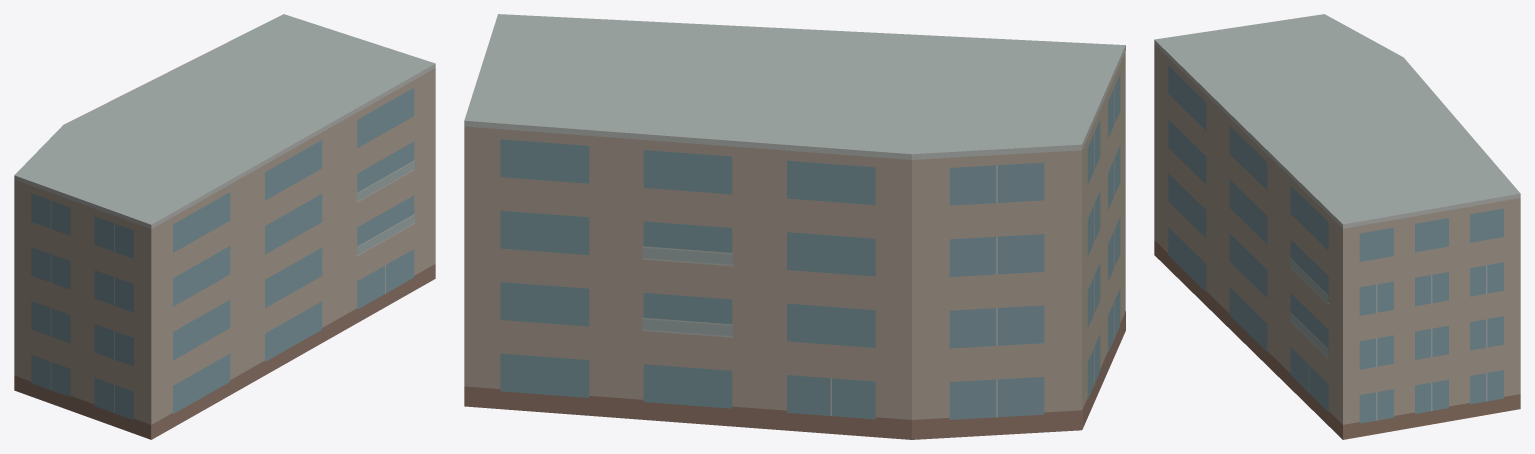
File: survey-upis-32590916.glb
The picture shows the model from 3 angles, left to right: view 1: azimuth 30°, elevation 25°; view 2: azimuth 150°, elevation 25°; view 3: azimuth 270°, elevation 25°; orthographic projection. The views are drawn at different scales.
Visible parts, largest first — view 1: survey-upis-32590916.tmp; view 2: survey-upis-32590916.tmp; view 3: survey-upis-32590916.tmp.
Boxes of the visible parts, x1=… form: survey-upis-32590916.tmp: x1=14, y1=14, x2=435, y2=439; survey-upis-32590916.tmp: x1=464, y1=14, x2=1125, y2=439; survey-upis-32590916.tmp: x1=1154, y1=14, x2=1520, y2=439.
Bounding box in the file's own units: 25.57 × 12.2 × 18.81.
